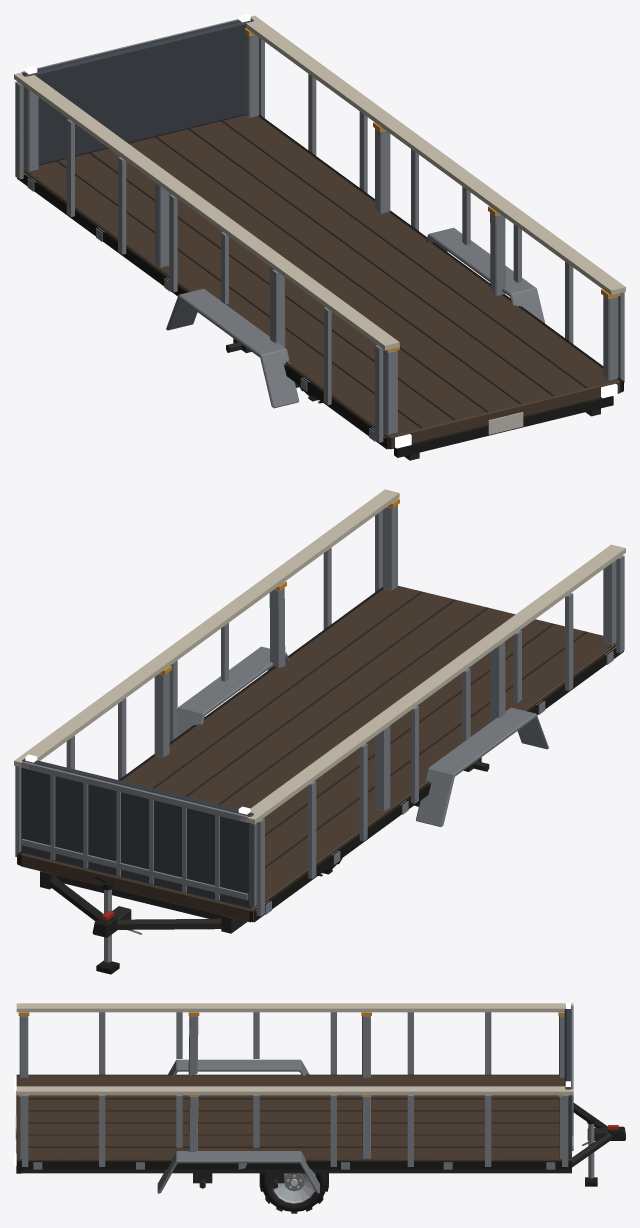
File: HeavyHauler_Flatbed.glb
3 views of the same model, one above another, from view 1: azimuth 30°, elevation 25°; view 2: azimuth 150°, elevation 25°; view 3: azimuth 270°, elevation 25° (orthographic). The views are drawn at different scales.
Visible parts, largest first — view 1: Bed, Body; view 2: Bed, Body, Hitch; view 3: Bed, Body, Wheel, Hitch.
Part boxes in pixels (x1,y1,x2,y2): Bed: (14, 15, 625, 449); Body: (166, 227, 613, 460); Bed: (14, 489, 625, 922); Body: (40, 646, 548, 933); Hitch: (50, 876, 221, 974); Bed: (16, 1003, 573, 1169); Body: (15, 1059, 571, 1193); Wheel: (259, 1173, 328, 1213); Hitch: (572, 1103, 625, 1186).
Size of the model in its own units: 11.22 by 8.59 by 28.64.
